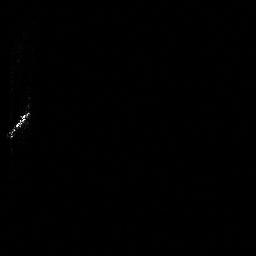ship: (4, 108, 33, 141)
